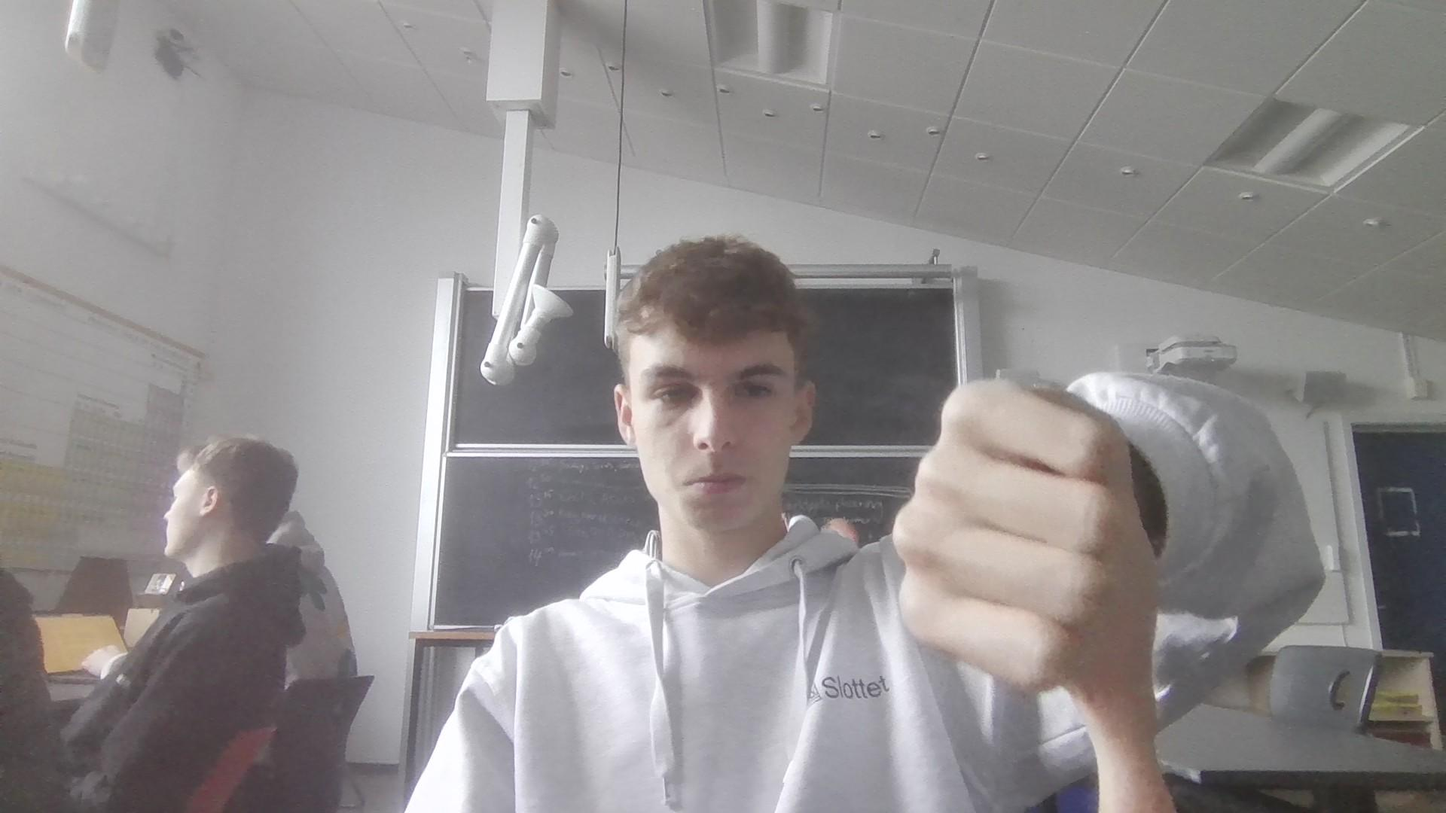thumbs down: (900, 351, 1203, 813)
